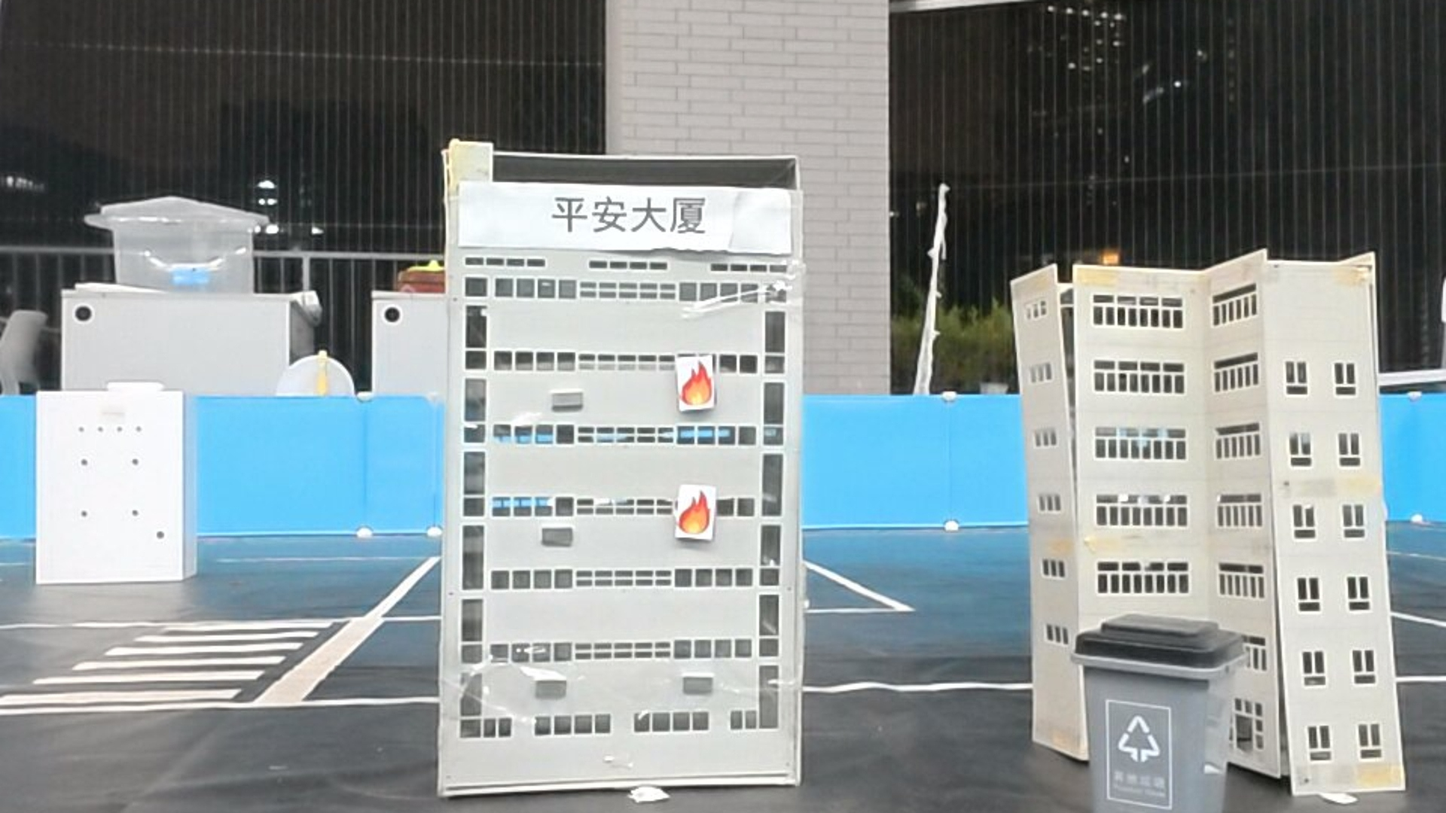fire: (676, 485, 718, 539), (677, 357, 718, 410)
